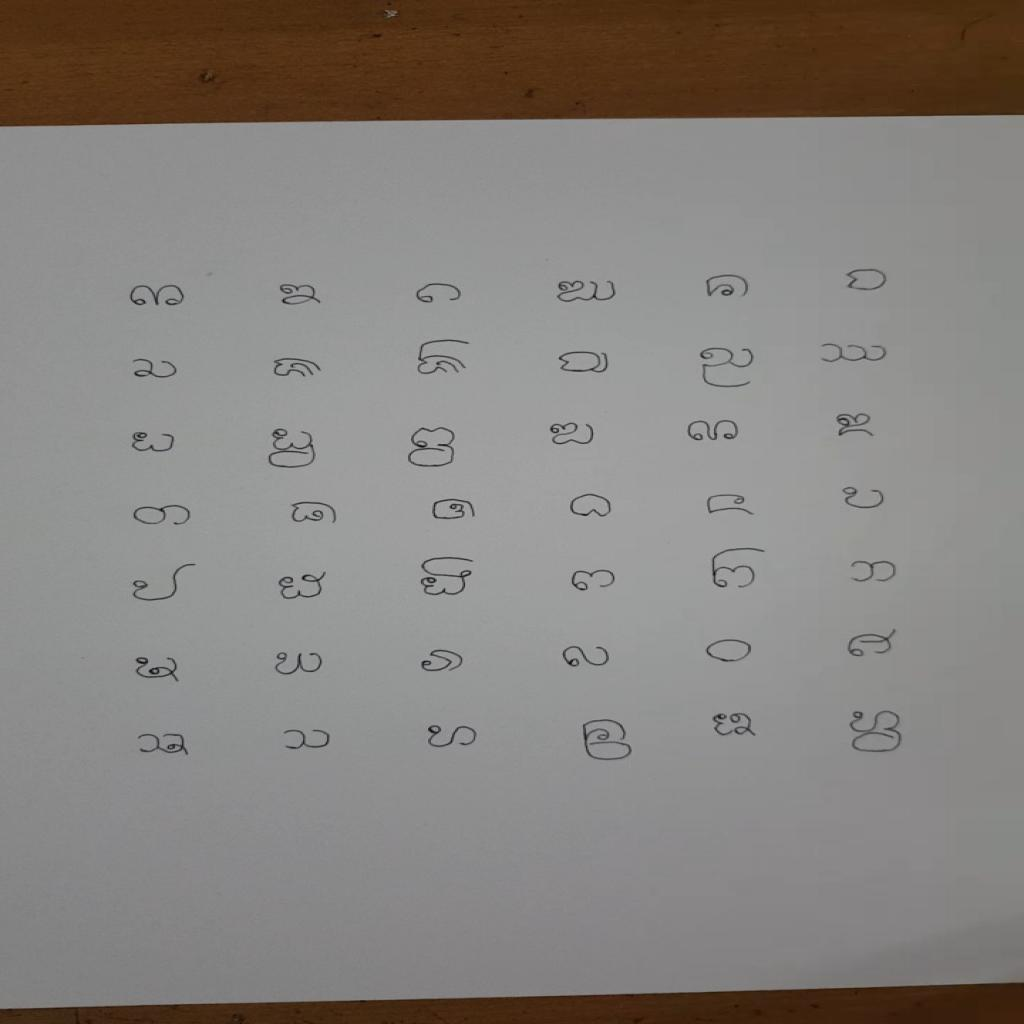LN001: (126, 283, 192, 310)
LN002: (275, 282, 328, 309)
LN003: (413, 282, 468, 307)
LN004: (553, 278, 623, 306)
LN005: (702, 273, 756, 301)
LN006: (841, 267, 894, 295)
LN007: (129, 357, 184, 382)
LN008: (269, 356, 328, 381)
LN009: (414, 338, 477, 378)
LN010: (555, 349, 614, 377)
LN011: (697, 346, 761, 392)
LN012: (816, 340, 894, 367)
LN013: (128, 429, 182, 457)
LN014: (264, 427, 323, 472)
LN015: (404, 425, 462, 472)
LN016: (546, 421, 601, 449)
LN017: (683, 418, 746, 445)
LN018: (832, 412, 881, 441)
LN019: (129, 502, 198, 530)
LN020: (285, 500, 345, 528)
LN021: (428, 497, 483, 523)
LN022: (567, 492, 619, 521)
LN023: (702, 493, 762, 519)
LN024: (838, 484, 891, 513)
LN025: (129, 561, 200, 606)
LN026: (276, 569, 332, 604)
LN027: (417, 556, 478, 601)
LN028: (568, 567, 620, 595)
LN029: (707, 545, 770, 593)
LN030: (847, 559, 902, 586)
LN031: (131, 653, 185, 686)
LN032: (270, 650, 327, 680)
LN033: (417, 648, 469, 676)
LN034: (557, 643, 615, 671)
LN035: (702, 637, 758, 666)
LN036: (844, 626, 904, 661)
LN037: (132, 730, 195, 760)
LN038: (277, 727, 339, 755)
LN039: (422, 723, 484, 752)
LN040: (579, 717, 639, 765)
LN041: (708, 711, 763, 740)
LN042: (844, 709, 909, 757)
